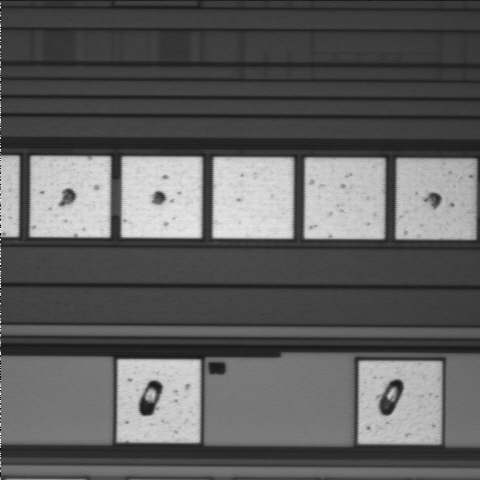pad: (117, 360, 200, 442), (359, 361, 441, 443), (30, 156, 110, 237), (122, 157, 202, 238), (213, 157, 293, 238), (305, 158, 384, 239), (396, 159, 475, 239)
